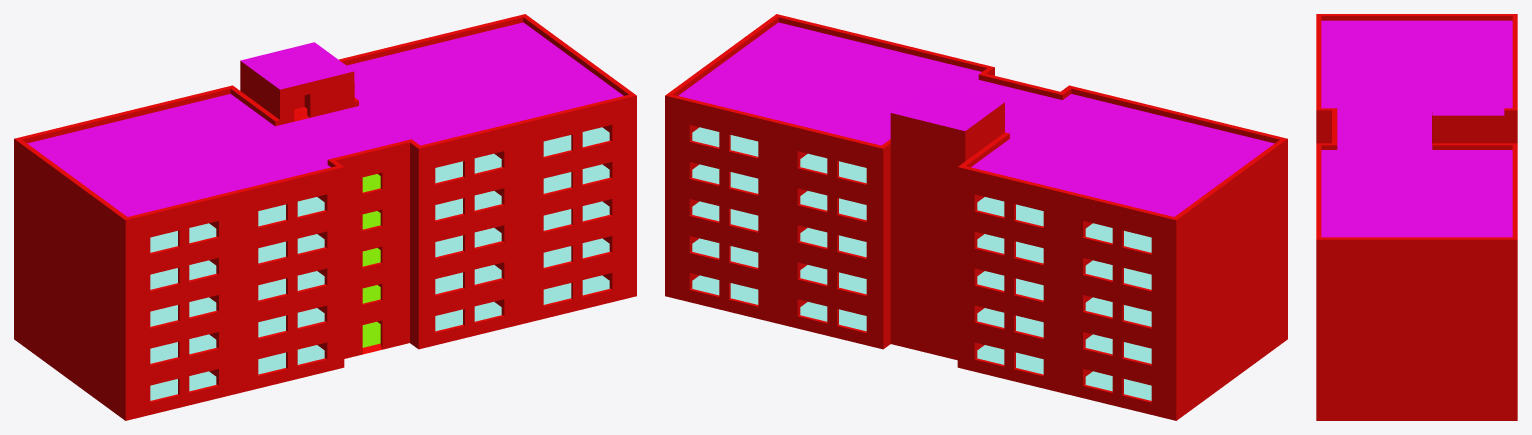
Rendered from apartments_final_fix_3.fbx.
3 views of the same model, side by side, from view 1: azimuth 30°, elevation 25°; view 2: azimuth 150°, elevation 25°; view 3: azimuth 270°, elevation 25° (orthographic). The views are drawn at different scales.
Visible parts, largest first — view 1: apartments1; view 2: apartments1; view 3: apartments1.
Boxes of the visible parts, x1,y1,x2,y2 form: apartments1: [14, 14, 636, 420]; apartments1: [665, 14, 1287, 420]; apartments1: [1316, 14, 1517, 420].
Size of the model in its own units: 52 by 22.46 by 19.64.
